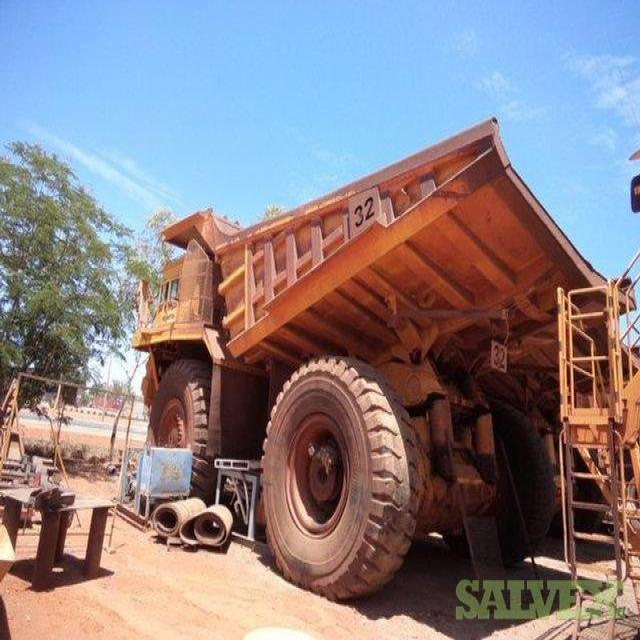dump_truck: (138, 118, 632, 606)
